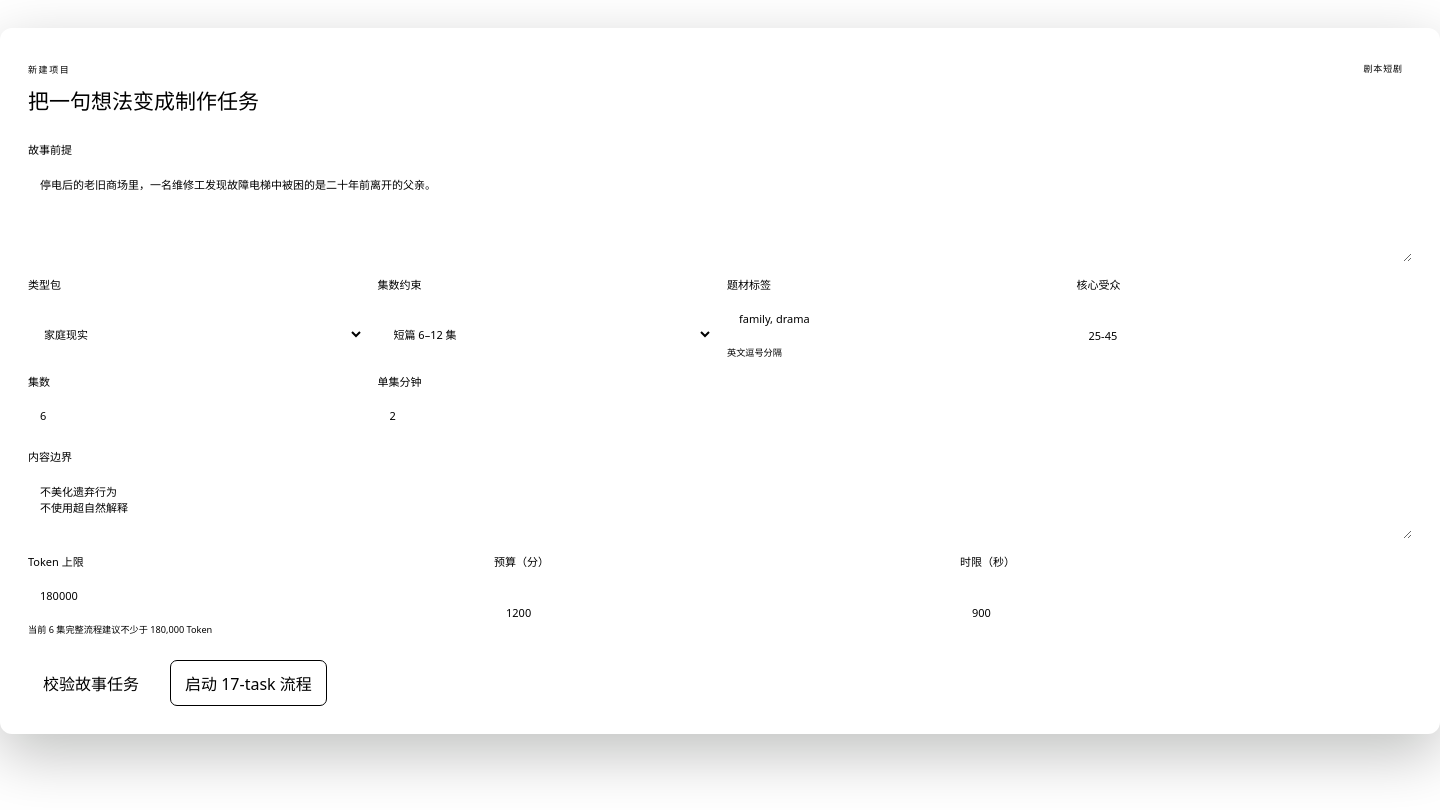
Test: StoryJobForm › 任务校验 › 应该成功校验有效的故事任务
The width and height of the screenshot is (1440, 810).
Click the button "校验故事任务".
click(91, 683)  # box [28,660,154,706]
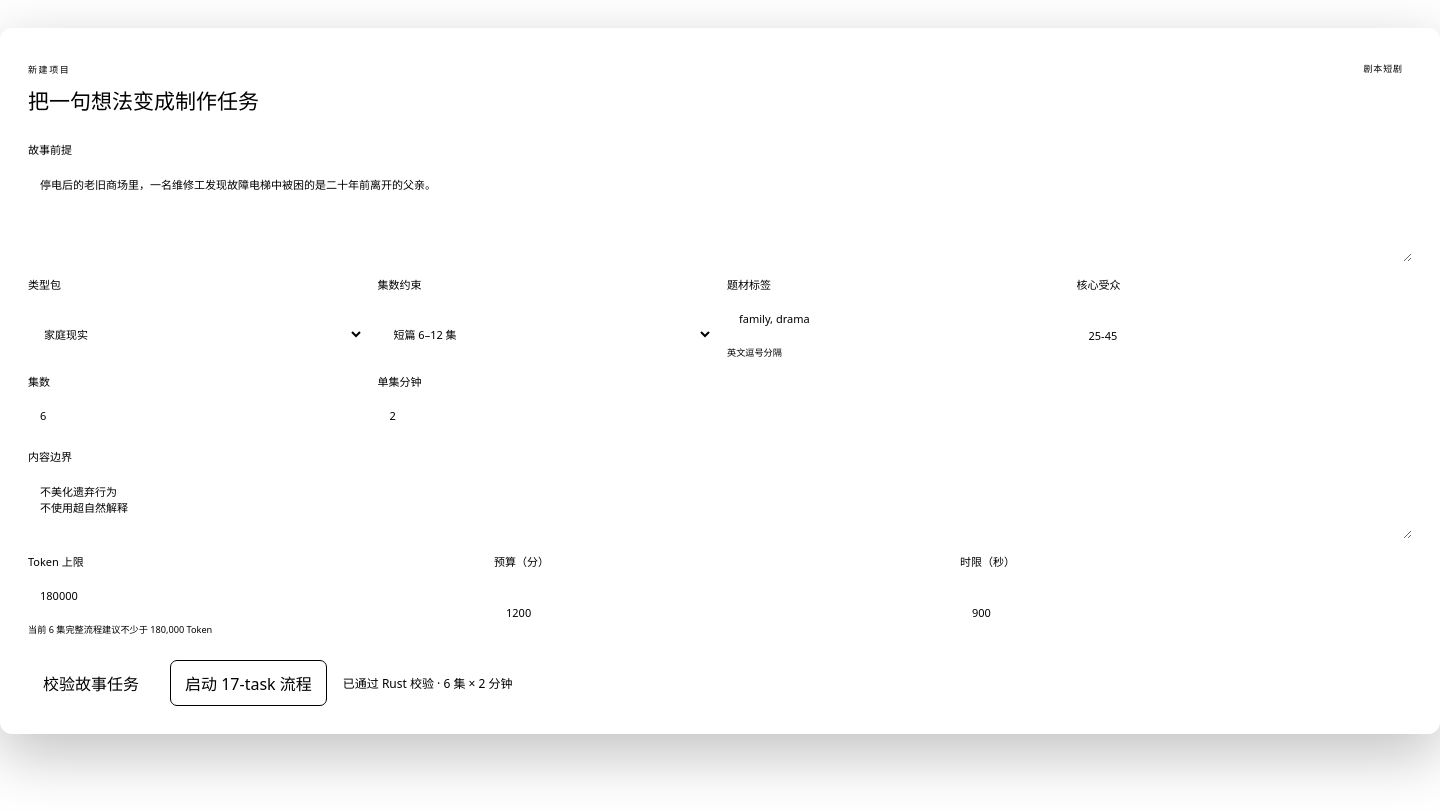
Result: the text "已通过 Rust 校验 · 6 集 × 2 分钟" is shown at [343,674,512,692]
